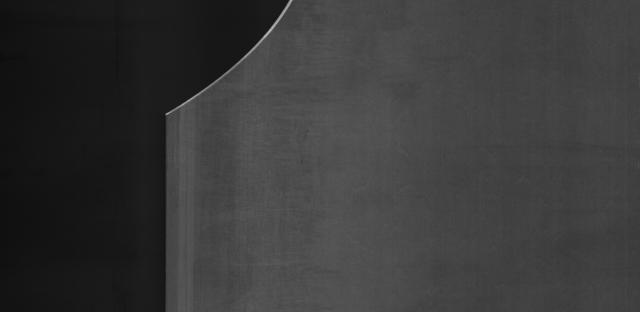crescent_gap: (147, 0, 344, 127)
